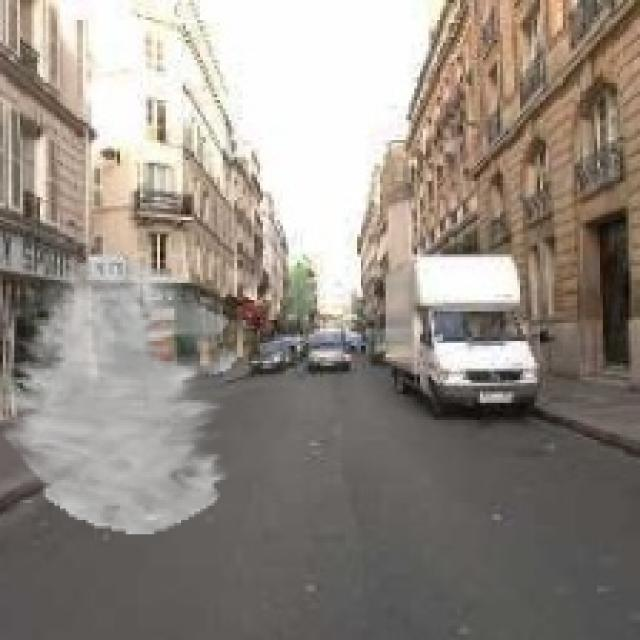smoke: (0, 257, 237, 534)
